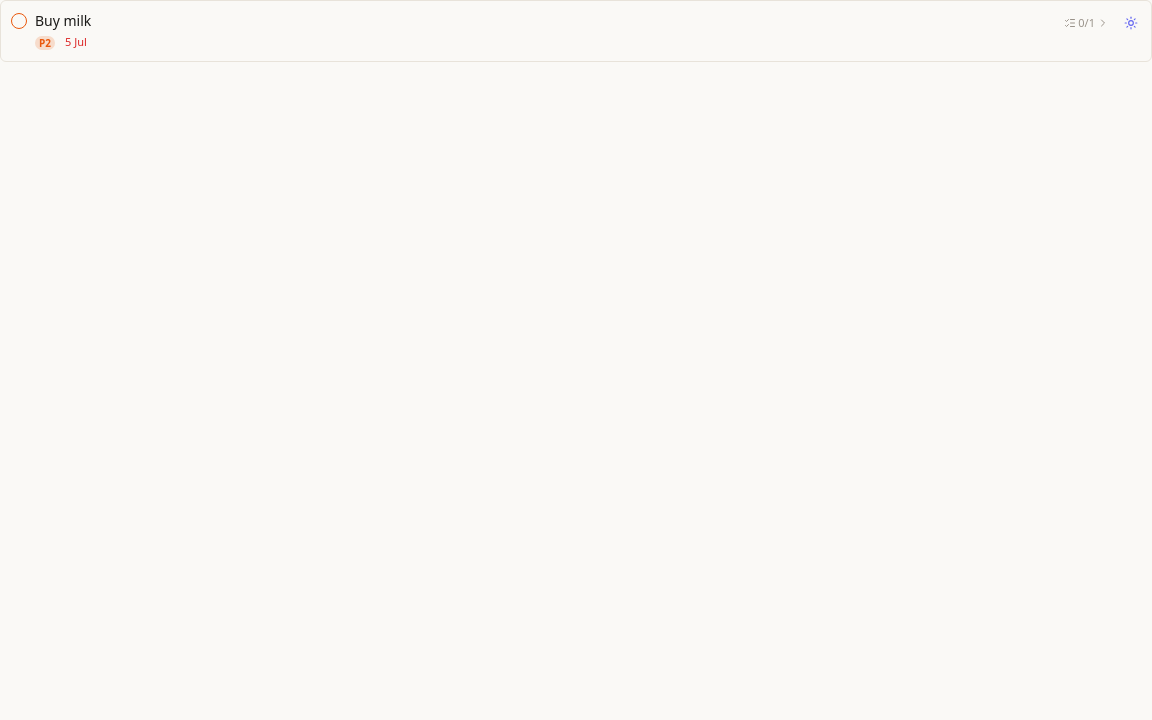
Test case: TaskRow › step-led › asks before finishing a task whose steps are still open
The image size is (1152, 720).
What coordinates should you click on to do the following:
click the button named "Complete"
I would click on:
 (19, 21)
Its box is [11,13,27,29].
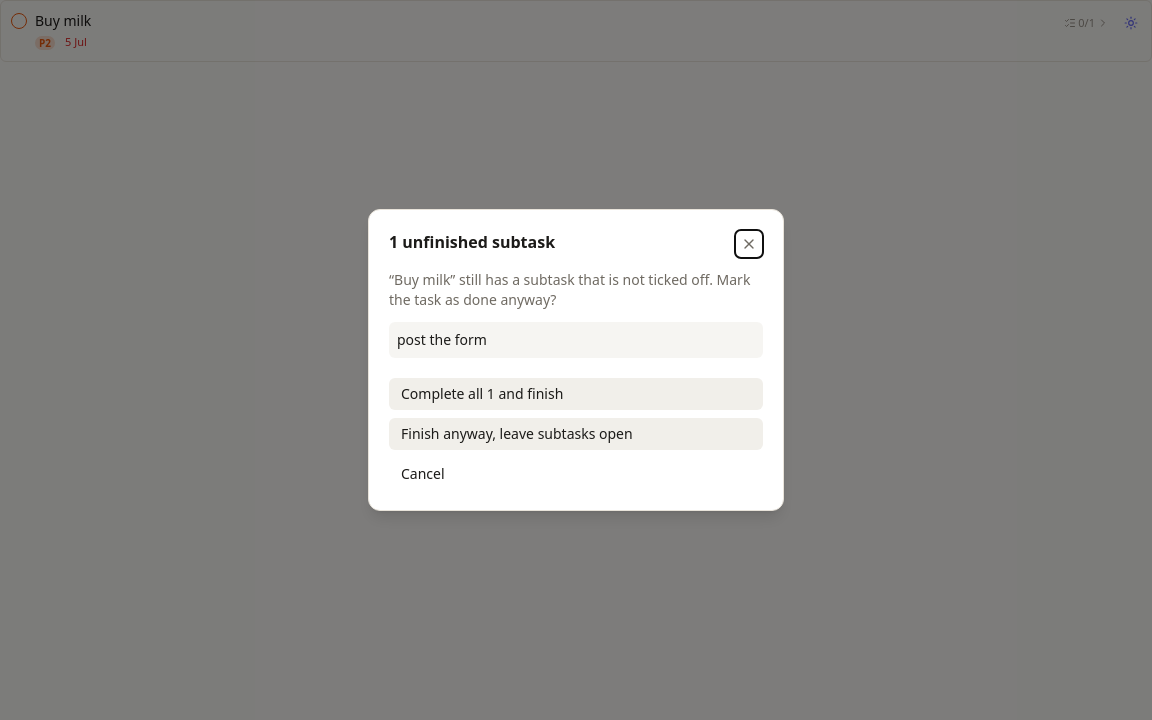
Expected: the heading "1 unfinished subtask" is shown, [389,230,555,254]
Expected: the button "Complete all 1 and finish" is shown, [389,378,763,410]
Expected: the button "Finish anyway, leave subtasks open" is shown, [389,418,763,450]
